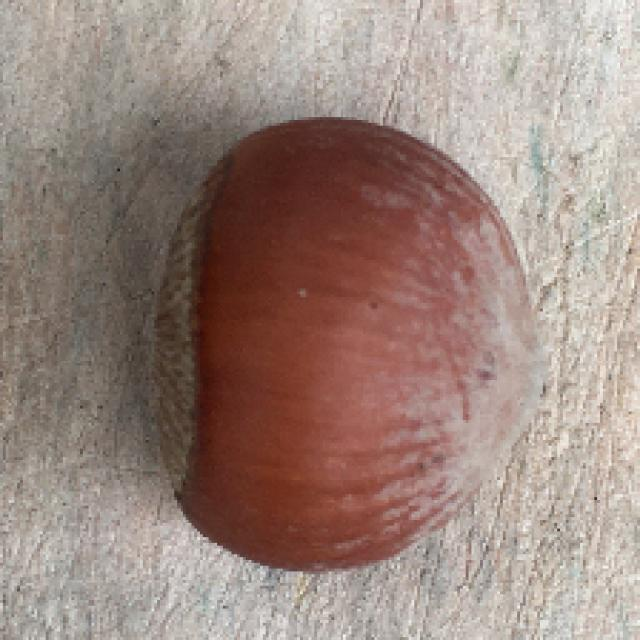qualityHazelnut: (136, 106, 553, 578)
